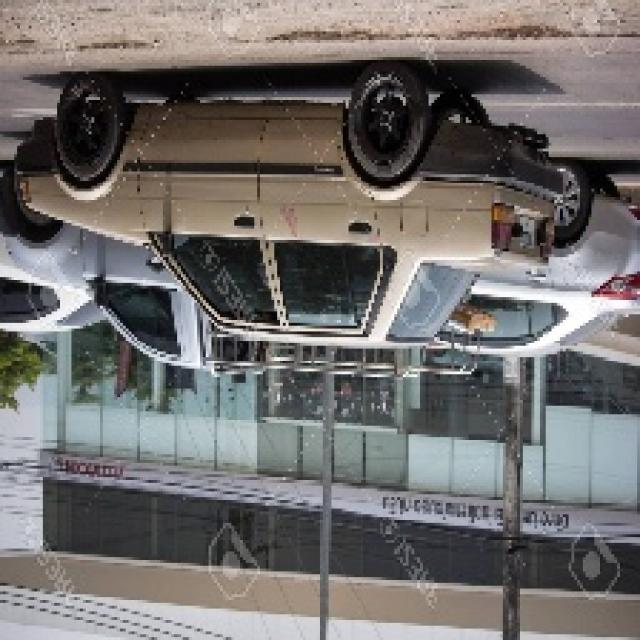car: (55, 80, 568, 348)
